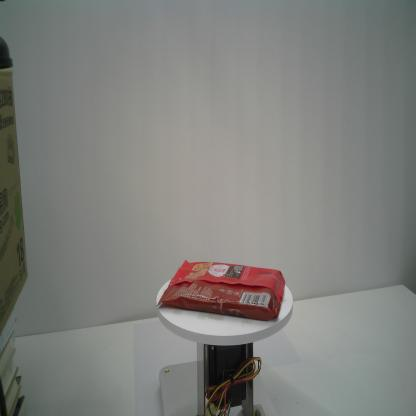Dessert: (155, 259, 286, 322)
